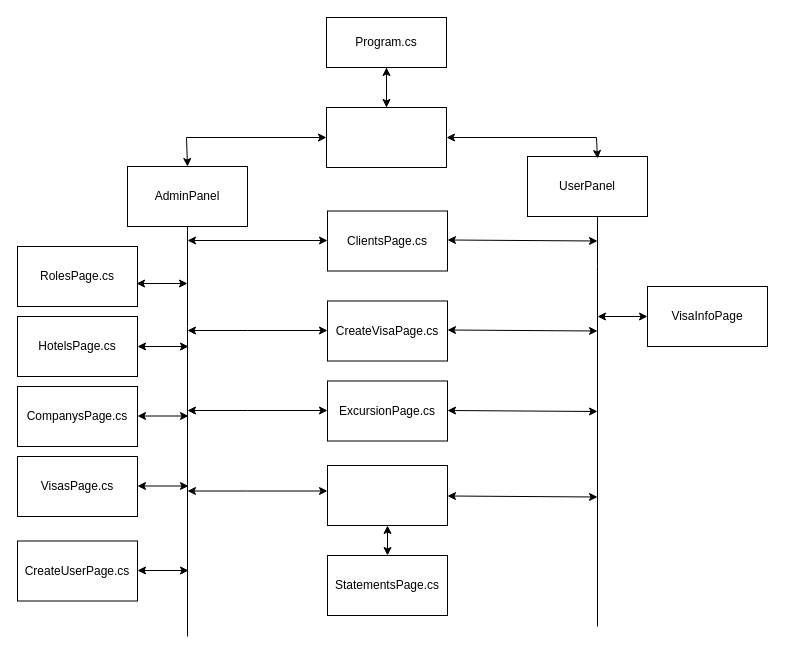
This 785x655 diagram has some shape labels left out. The box of each missing label's shape, as (x1, y1, x2, y2) in pixels:
Login.cs: (326, 106, 446, 168)
StockPage.cs: (326, 464, 448, 526)
